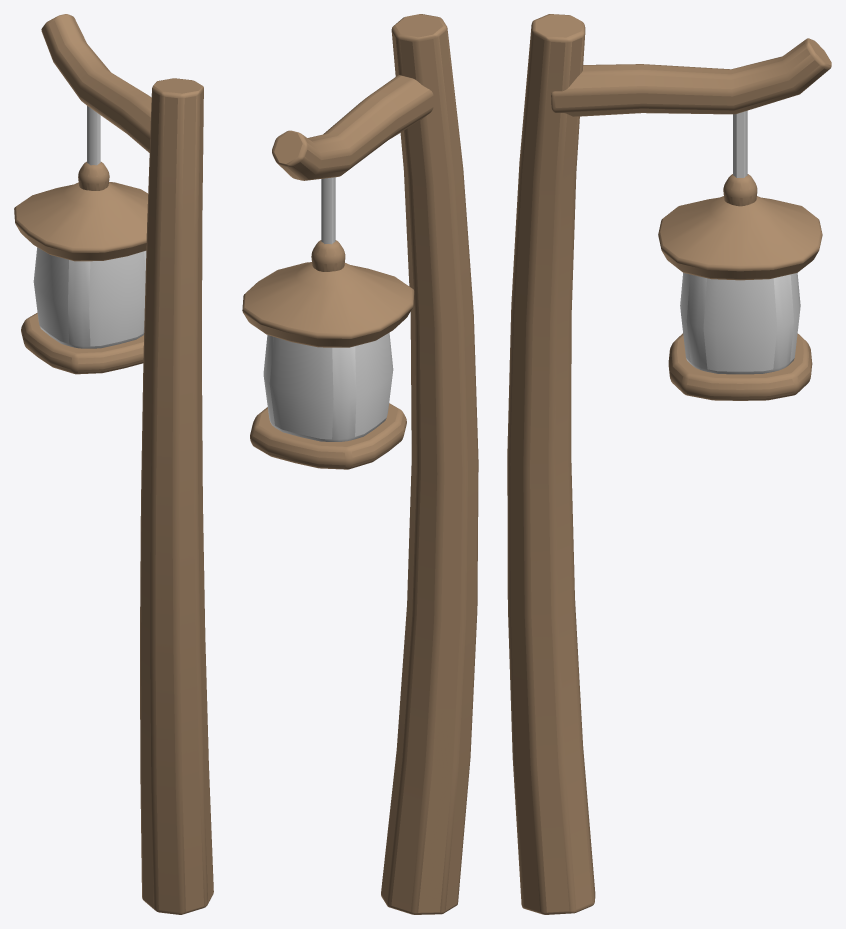
The model's file is prop_lantern_post_1.glb.
The picture shows the model from 3 angles, left to right: view 1: azimuth 30°, elevation 25°; view 2: azimuth 150°, elevation 25°; view 3: azimuth 270°, elevation 25°; orthographic projection. The views are drawn at different scales.
Parts seen in each view (by area): view 1: prop_lantern_post_1_timber, prop_lantern_post_1_pv_capiz_lantern, prop_lantern_post_1_pv_rope; view 2: prop_lantern_post_1_timber, prop_lantern_post_1_pv_capiz_lantern, prop_lantern_post_1_pv_rope; view 3: prop_lantern_post_1_timber, prop_lantern_post_1_pv_capiz_lantern, prop_lantern_post_1_pv_rope.
Part boxes in pixels (x1=…): prop_lantern_post_1_timber: x1=14, y1=14, x2=213, y2=914; prop_lantern_post_1_pv_capiz_lantern: x1=33, y1=247, x2=146, y2=348; prop_lantern_post_1_pv_rope: x1=87, y1=106, x2=100, y2=165; prop_lantern_post_1_timber: x1=242, y1=14, x2=478, y2=914; prop_lantern_post_1_pv_capiz_lantern: x1=263, y1=332, x2=393, y2=441; prop_lantern_post_1_pv_rope: x1=321, y1=177, x2=335, y2=244; prop_lantern_post_1_timber: x1=507, y1=14, x2=831, y2=914; prop_lantern_post_1_pv_capiz_lantern: x1=680, y1=272, x2=800, y2=374; prop_lantern_post_1_pv_rope: x1=733, y1=110, x2=747, y2=177.
Bounding box in the file's own units: 0.4526 × 2.67 × 0.892.
